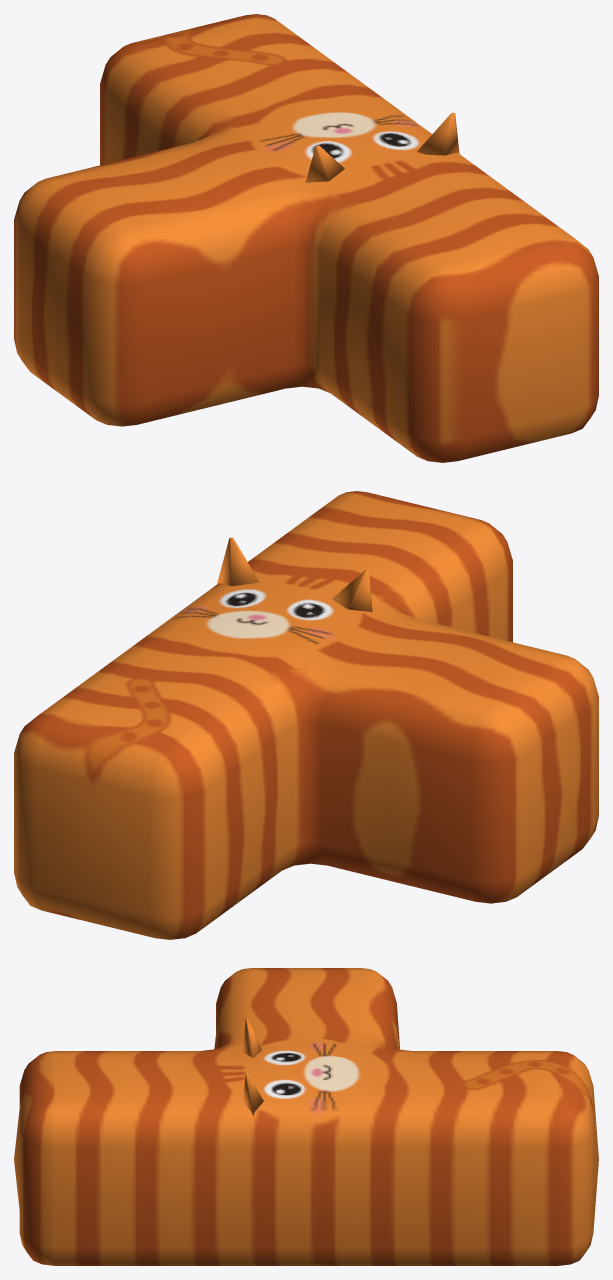
File: Cat_T.fbx
3 views of the same model, one above another, from view 1: azimuth 30°, elevation 25°; view 2: azimuth 150°, elevation 25°; view 3: azimuth 270°, elevation 25° (orthographic). The views are drawn at different scales.
Parts seen in each view (by area): view 1: Cat_T; view 2: Cat_T; view 3: Cat_T.
Boxes of the visible parts, x1,y1,x2,y2 form: Cat_T: (14,14,598,462); Cat_T: (14,491,598,939); Cat_T: (14,968,598,1265).
Bounding box in the file's own units: 1.98 × 1.05 × 2.98.
Materials: 1 (1 with a texture image).
